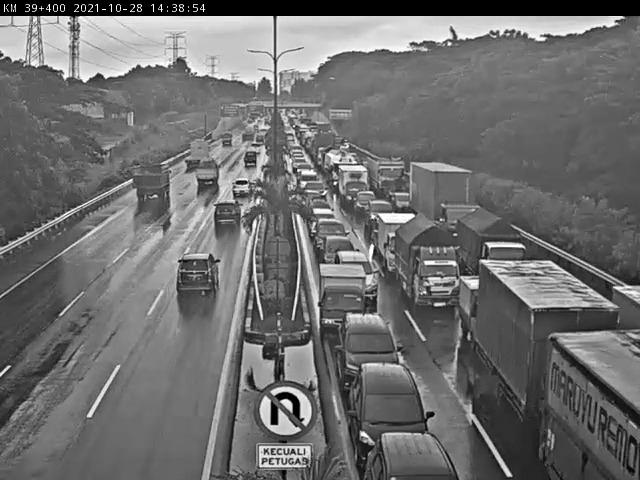big truck: (479, 259, 626, 446), (405, 159, 477, 247), (181, 137, 210, 174), (240, 126, 256, 145)
car: (349, 364, 436, 463), (335, 314, 399, 398), (363, 433, 460, 480), (335, 252, 380, 302), (175, 252, 222, 297), (319, 236, 360, 277), (312, 218, 350, 257), (213, 199, 243, 230), (367, 199, 395, 231), (309, 207, 334, 237), (300, 189, 323, 221), (297, 169, 319, 196), (229, 178, 254, 199), (355, 191, 376, 216), (246, 145, 262, 160), (253, 134, 265, 145)
small truck: (393, 215, 462, 312), (457, 206, 527, 284), (458, 274, 521, 351), (317, 261, 369, 337), (377, 212, 420, 277), (129, 163, 169, 205), (339, 165, 369, 207), (194, 157, 221, 188), (242, 149, 259, 169), (220, 132, 233, 146)
